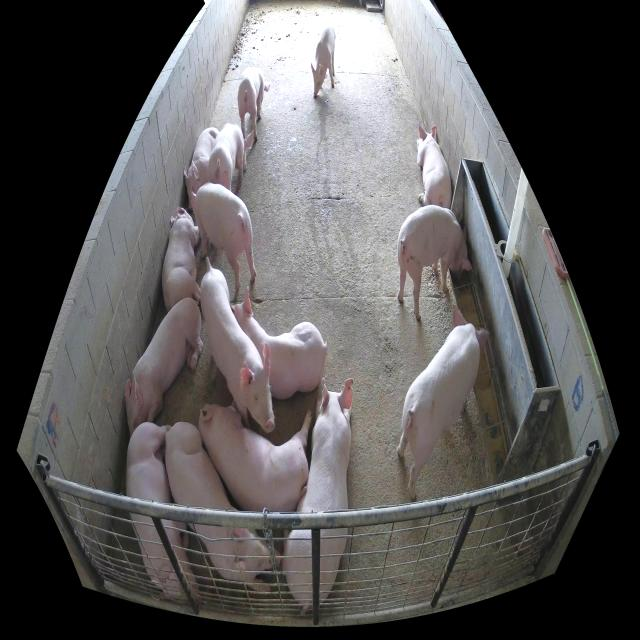pig: (164, 422, 281, 594), (396, 305, 490, 498), (283, 375, 352, 610), (126, 423, 204, 605), (200, 257, 275, 433), (198, 403, 313, 514), (231, 286, 329, 400), (125, 299, 203, 438), (397, 204, 472, 322), (194, 182, 256, 295), (161, 206, 200, 314), (208, 122, 254, 191), (416, 121, 452, 209), (183, 128, 219, 208), (238, 68, 271, 139), (310, 20, 336, 100)
